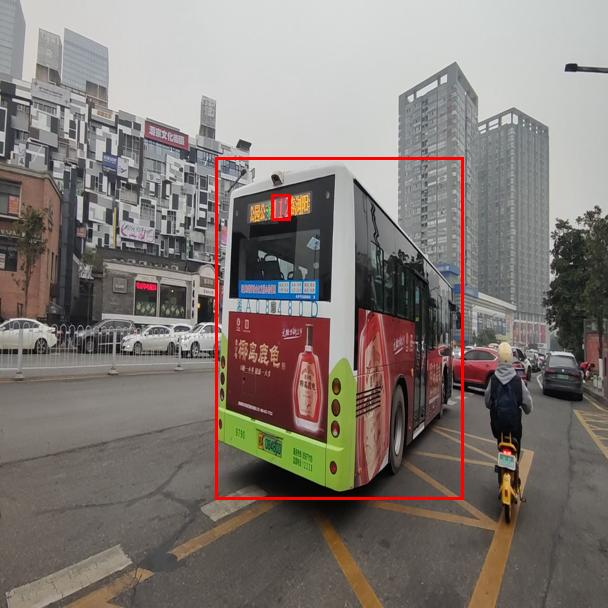bus: (215, 157, 463, 499)
screen: (271, 194, 290, 220)
